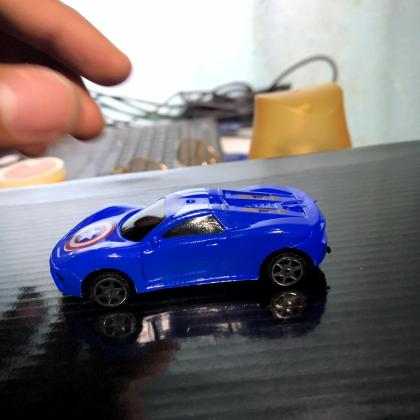Car: (48, 186, 330, 309)
